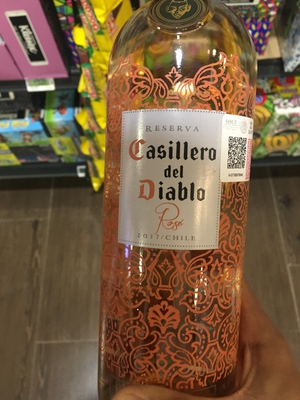casillero del diablo rose: (94, 12, 266, 400)
